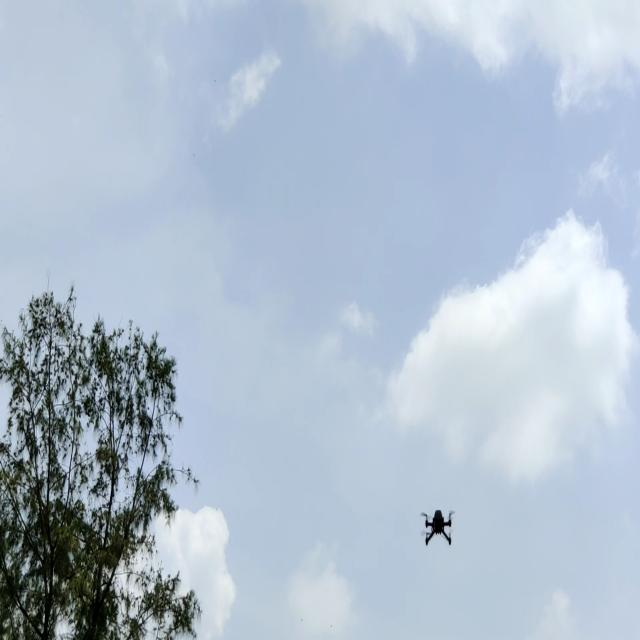drone: (413, 496, 462, 555)
